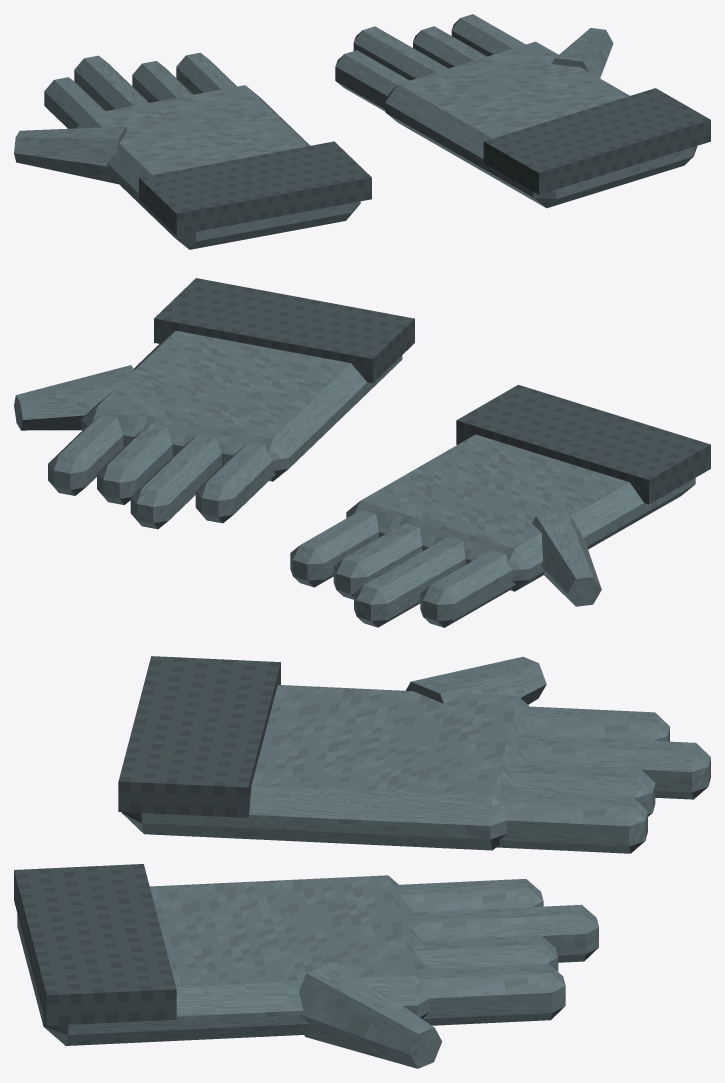
File: gloves_light.glb
3 renders of one model, top to bottom at view 1: azimuth 30°, elevation 25°; view 2: azimuth 150°, elevation 25°; view 3: azimuth 270°, elevation 25°, orthographic. The views are drawn at different scales.
Visible parts, largest first — view 1: block_palm and cuff (×2), block_rib cuff (×2), block_thumb (×2), block_finger 1 (×2), block_finger 0 (×2), block_finger 3 (×2), block_finger 2 (×2); view 2: block_palm and cuff (×2), block_rib cuff (×2), block_finger 1 (×2), block_thumb (×2), block_finger 0 (×2), block_finger 3 (×2), block_finger 2 (×2); view 3: block_palm and cuff (×2), block_rib cuff (×2), block_finger 3 (×2), block_finger 1 (×2), block_thumb (×2), block_finger 2 (×2), block_finger 0 (×2).
Part boxes in pixels (x1=…): block_palm and cuff (×2): x1=77, y1=41, x2=697, y2=249; block_rib cuff (×2): x1=139, y1=88, x2=710, y2=235; block_thumb (×2): x1=14, y1=28, x2=613, y2=184; block_finger 1 (×2): x1=74, y1=26, x2=447, y2=110; block_finger 0 (×2): x1=44, y1=50, x2=409, y2=128; block_finger 3 (×2): x1=176, y1=14, x2=525, y2=94; block_finger 2 (×2): x1=132, y1=26, x2=486, y2=102; block_palm and cuff (×2): x1=81, y1=330, x2=695, y2=591; block_rib cuff (×2): x1=154, y1=278, x2=710, y2=504; block_finger 1 (×2): x1=130, y1=433, x2=465, y2=627; block_thumb (×2): x1=14, y1=365, x2=601, y2=606; block_finger 0 (×2): x1=195, y1=442, x2=515, y2=627; block_finger 3 (×2): x1=48, y1=414, x2=378, y2=587; block_finger 2 (×2): x1=97, y1=423, x2=422, y2=599; block_palm and cuff (×2): x1=17, y1=685, x2=535, y2=1045; block_rib cuff (×2): x1=14, y1=656, x2=280, y2=1025; block_finger 3 (×2): x1=418, y1=791, x2=647, y2=1025; block_finger 1 (×2): x1=404, y1=734, x2=710, y2=962; block_thumb (×2): x1=299, y1=656, x2=546, y2=1068; block_finger 2 (×2): x1=411, y1=762, x2=655, y2=971; block_finger 0 (×2): x1=396, y1=706, x2=669, y2=912.
Bounding box in the file's own units: 0.2433 × 0.0195 × 0.1868.
1 material, 1 textured.
